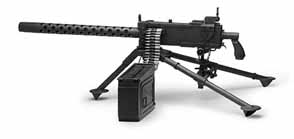rifle: (17, 8, 277, 118)
